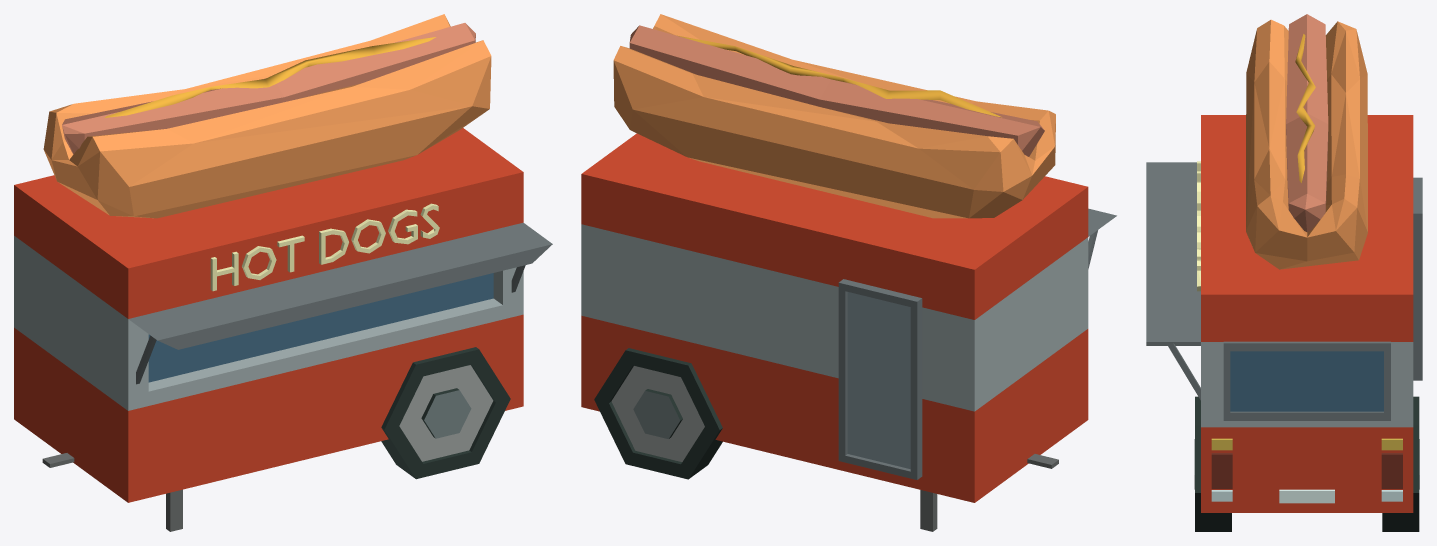
The model's file is HotDogs_Shop.fbx.
The picture shows the model from 3 angles, left to right: view 1: azimuth 30°, elevation 25°; view 2: azimuth 150°, elevation 25°; view 3: azimuth 270°, elevation 25°; orthographic projection. The views are drawn at different scales.
Parts seen in each view (by area): view 1: HotDogs_Shop; view 2: HotDogs_Shop; view 3: HotDogs_Shop.
Part boxes in pixels (box(x1,y1,x2,y2)): HotDogs_Shop: box(14, 14, 552, 531); HotDogs_Shop: box(581, 14, 1116, 531); HotDogs_Shop: box(1146, 14, 1422, 531).
Size of the model in its own units: 325 by 282 by 195.
